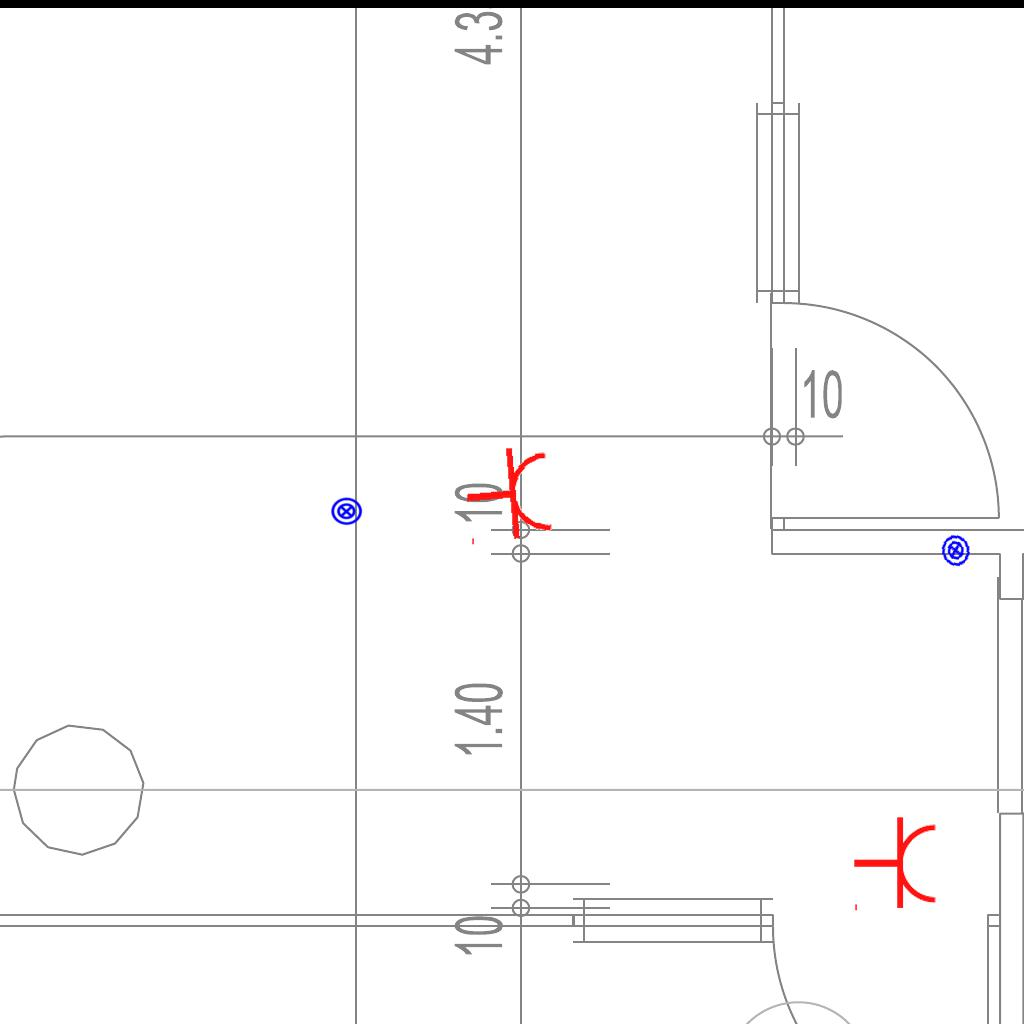Schukosteckdose_einfach: (460, 442, 557, 550), (852, 815, 939, 915)
Taster_beleuchtet: (936, 531, 975, 570), (330, 495, 363, 528)
